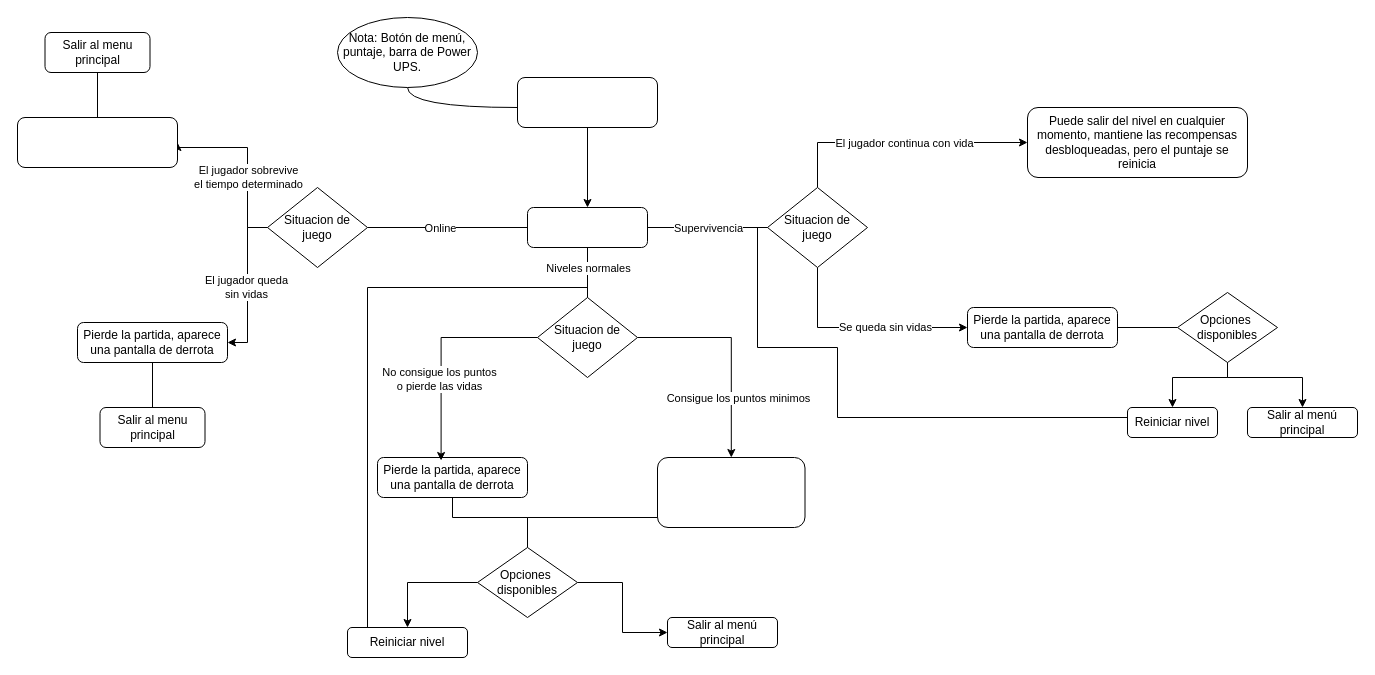
This 1375x675 diagram has some shape labels left out. Each missing label, with the centre of its shape:
"Aparecen los elementos de la interfaz" goes at (x=587, y=102).
"Gana la partida y se despliega un resumen de partida (puntos y vidas restantes)" goes at (x=730, y=492).
"Gana la partida, se muestra un resumen de puntaje conseguido" goes at (x=97, y=142).
"Inicia la partida" goes at (x=587, y=227).
